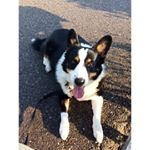puppy: (26, 25, 113, 147)
